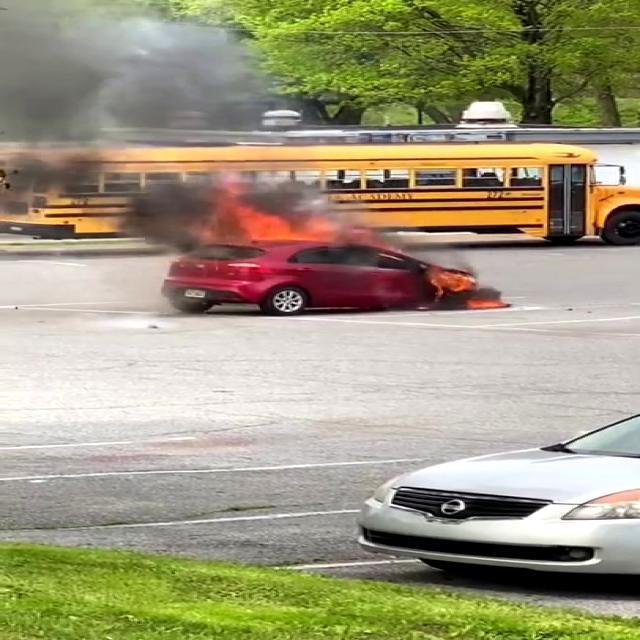Fire: (231, 201, 315, 256), (424, 268, 510, 310)
Smoke: (9, 4, 305, 246)
